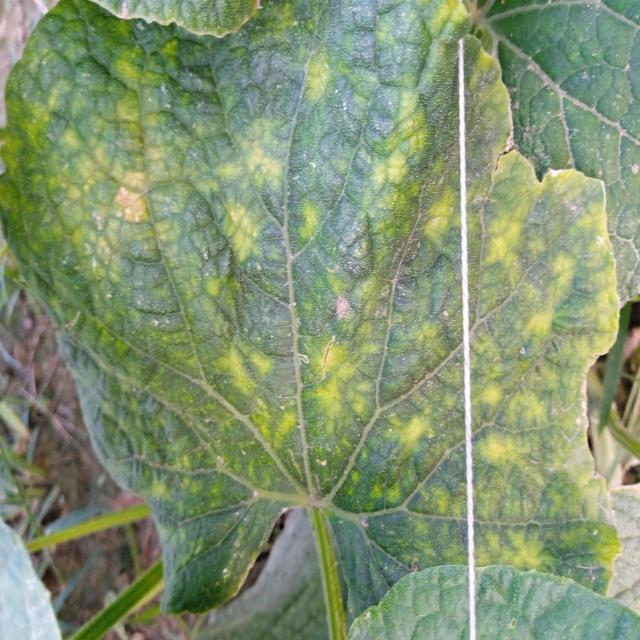cucumber_downy: (9, 34, 624, 592)
